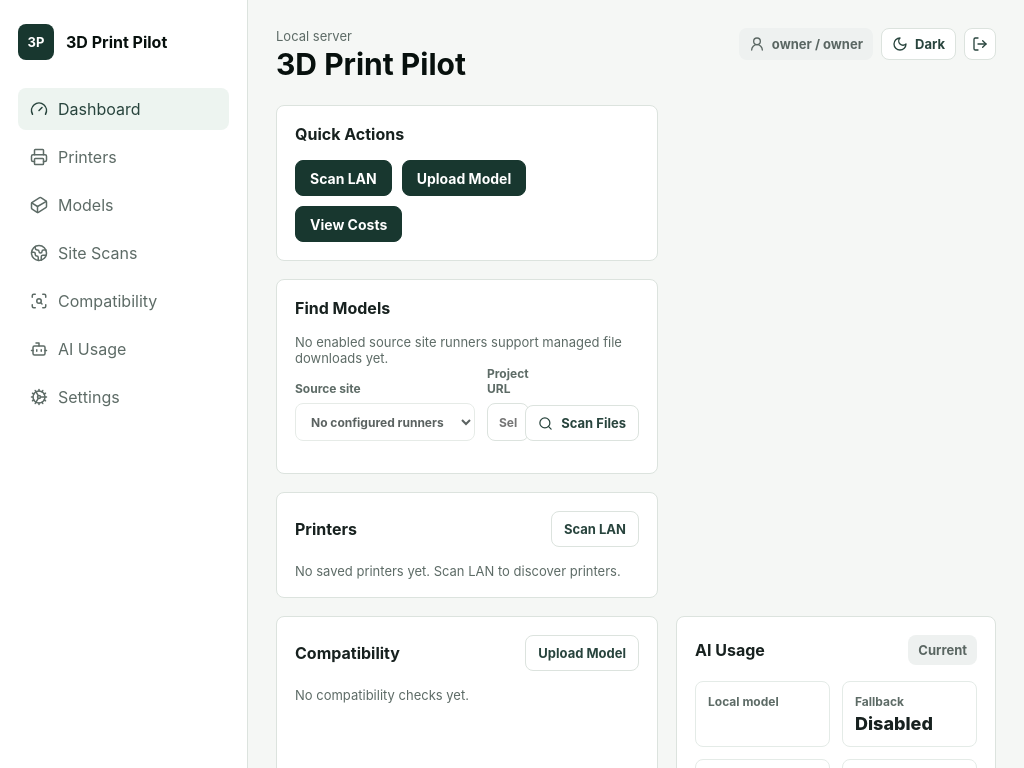
Test case: App › lazy-loads the printers domain page from navigation
Click the button "Printers".
click(124, 157)  # box [18,136,229,178]
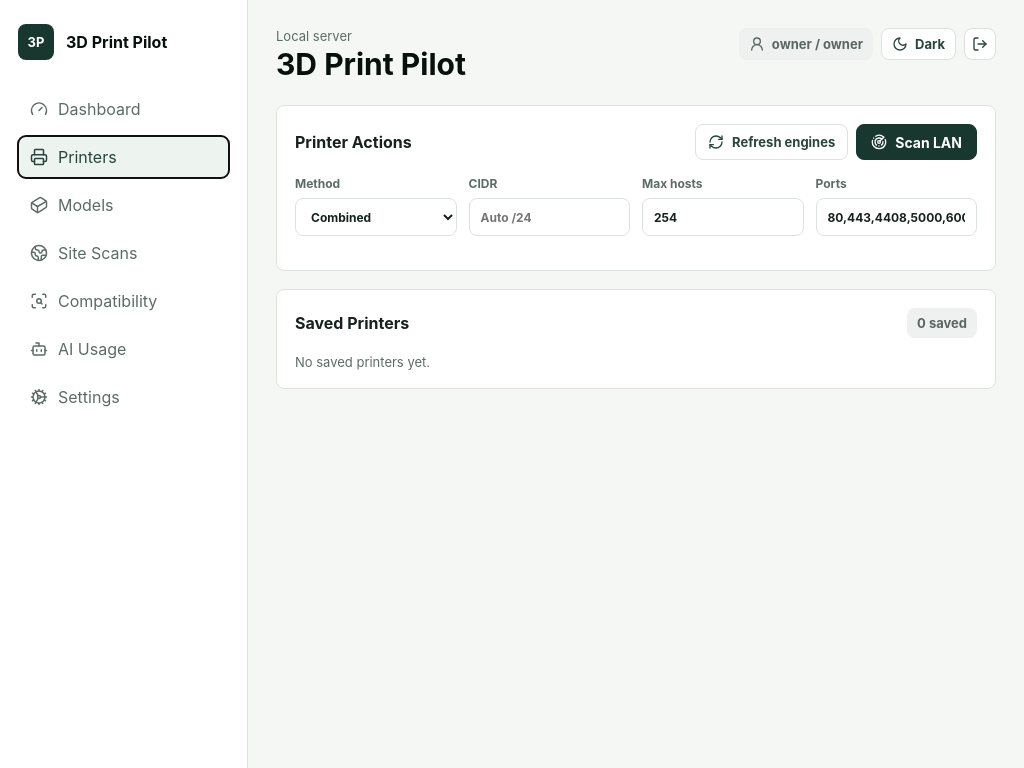
Check: the heading "Printer Actions" is shown, box [295,132,412,152]
Check: the heading "Saved Printers" is shown, box [295,313,409,333]
